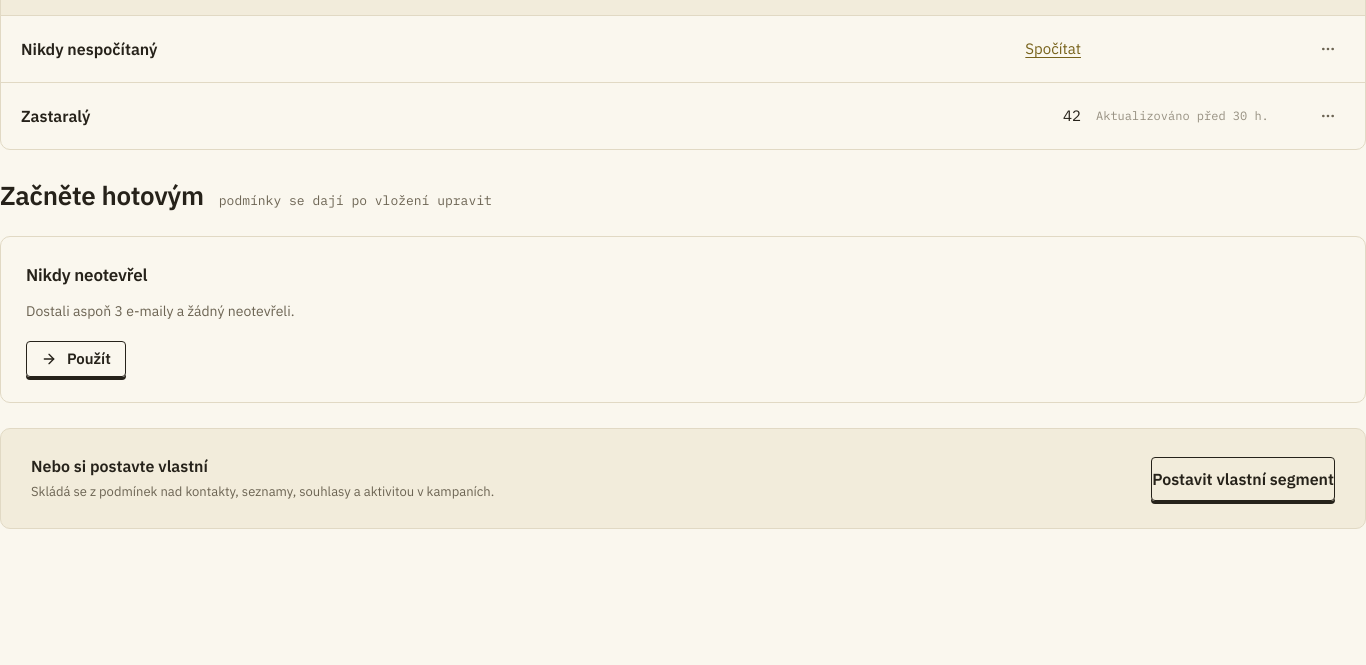
Test case: nabídka „…" v řádku segmentu › selhání zůstane v okně a seznam se neobnoví
Click the button named "Další akce se segmentem".
click(1328, 116)  # box [1311, 99, 1345, 133]
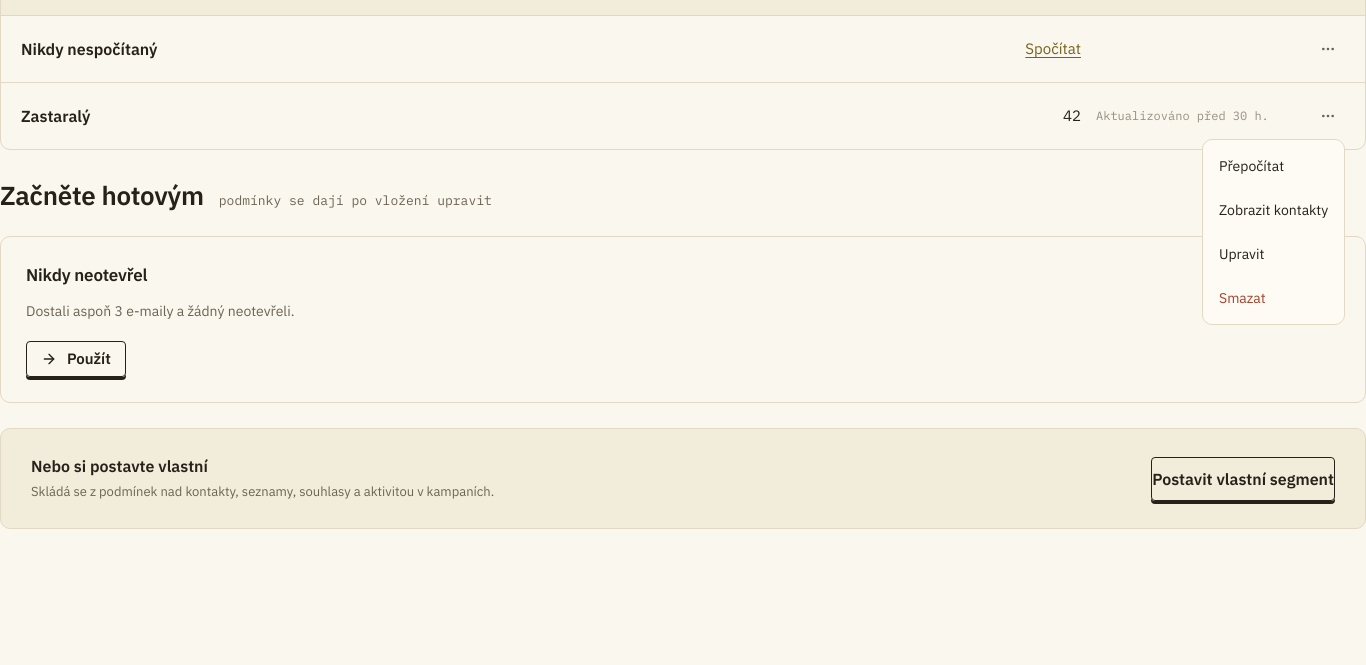
Click the menu item "Smazat".
click(1242, 298)  # box [1219, 289, 1266, 307]
(page scrolled)
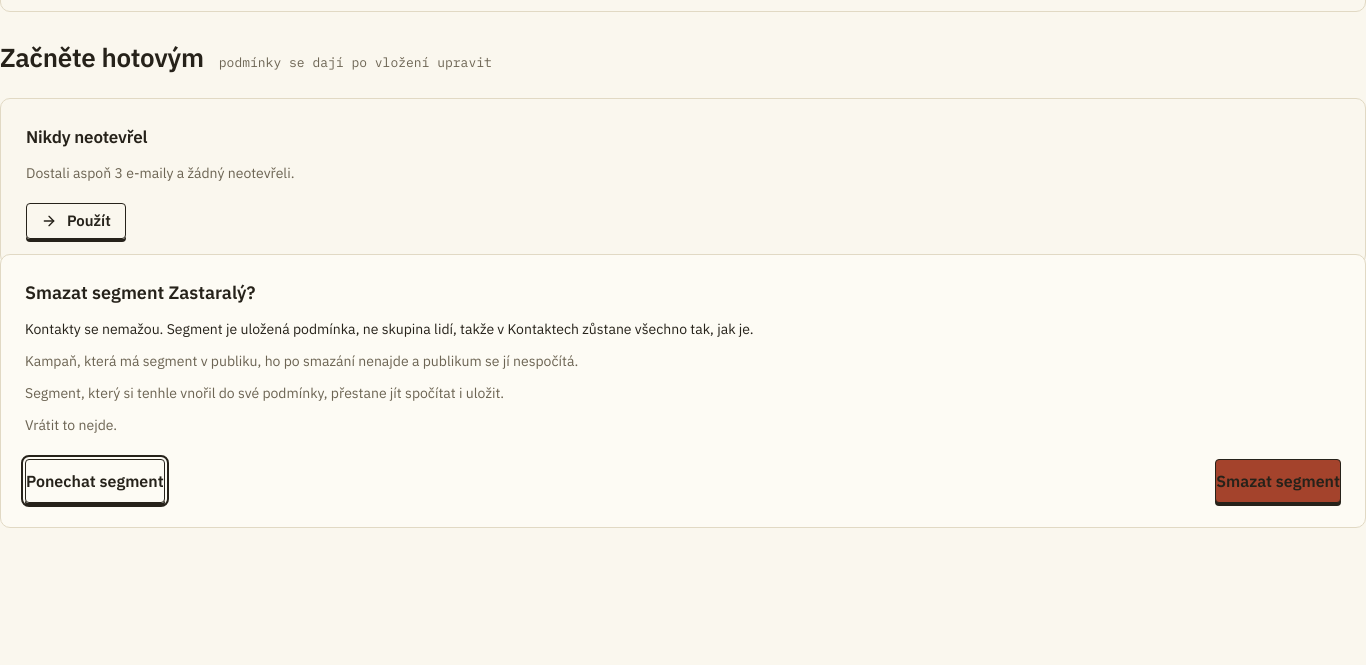
Click the button "Smazat segment".
click(1278, 481)  # box [1215, 459, 1341, 503]
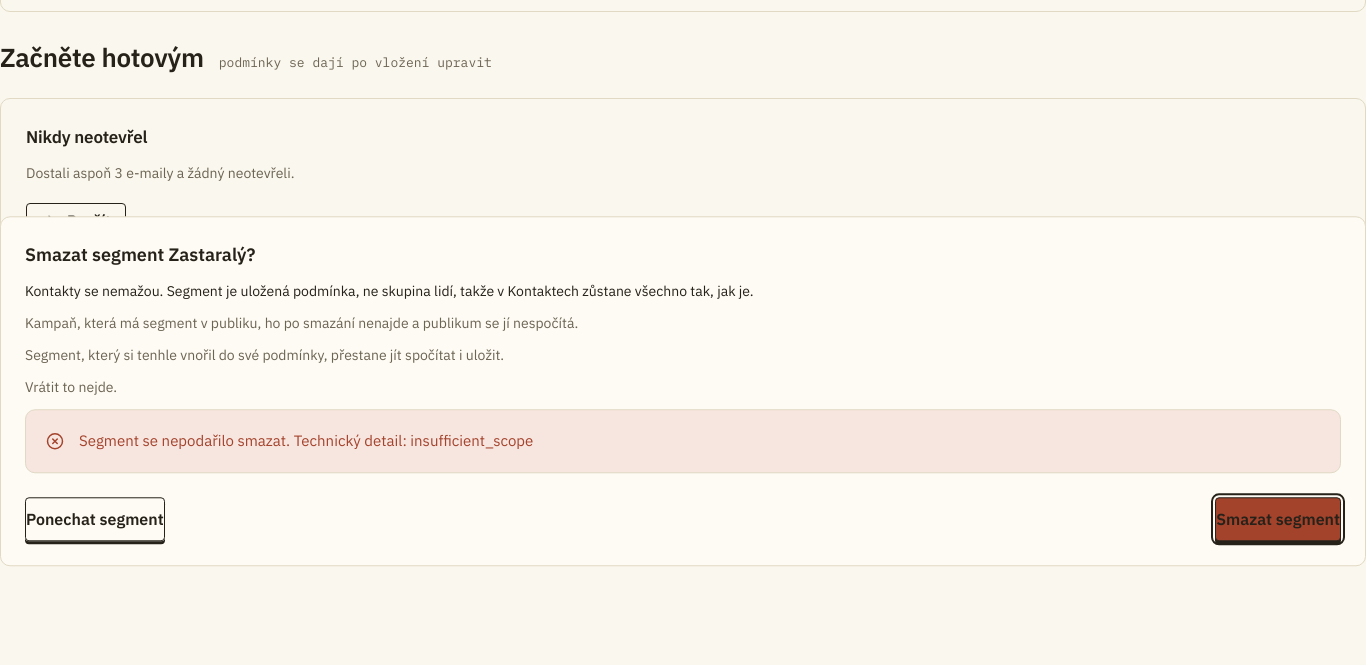
expect the message with test id "delete-segment-error" shows "insufficient_scope": met, box [79, 432, 533, 450]
